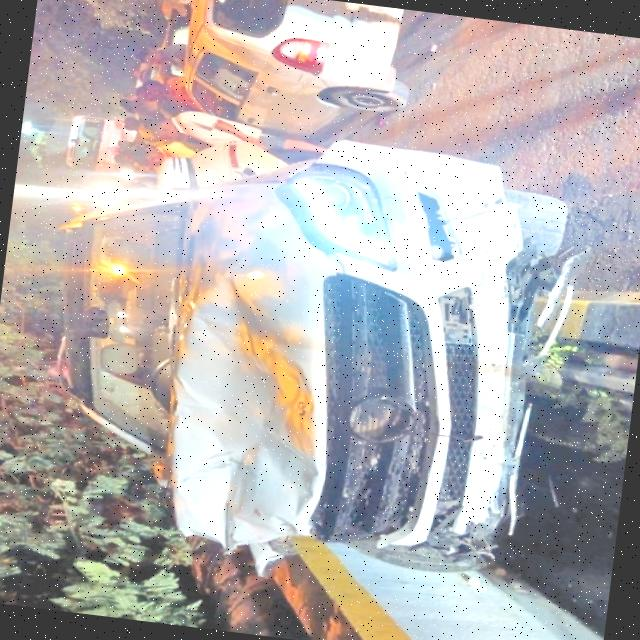Severe Damage: (160, 170, 582, 580)
